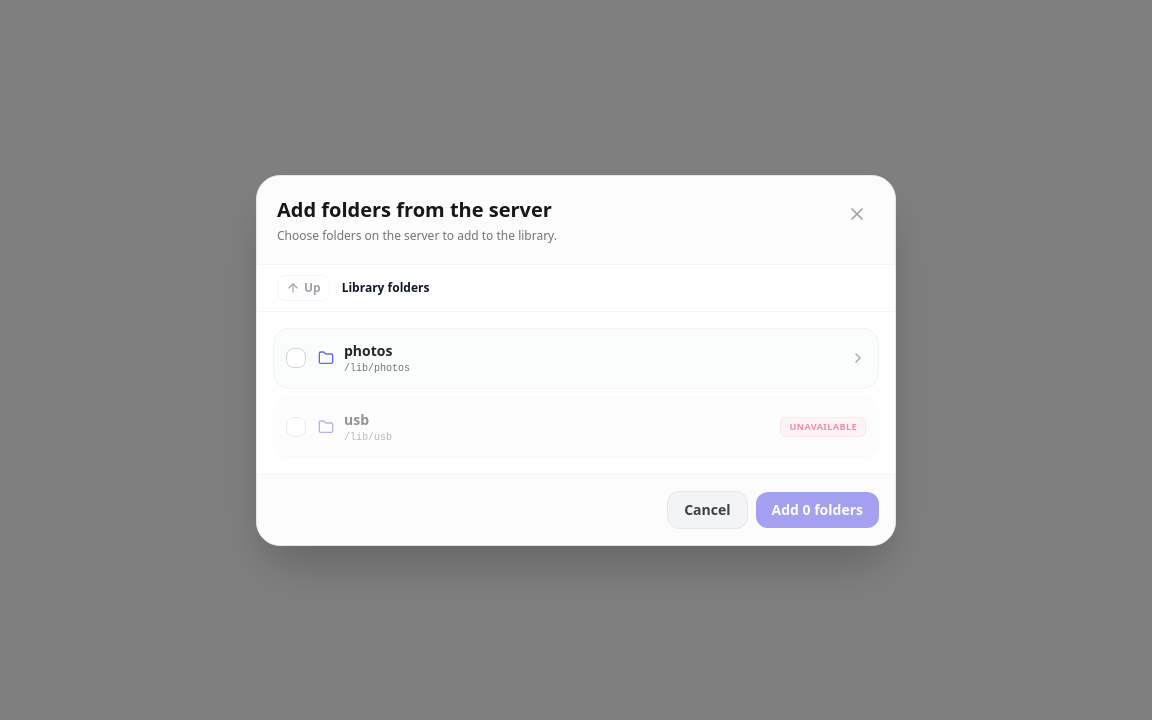
FolderPickerModal › notes a truncated listing and names that were skipped
Step 1. Click the button with aria-label "Open photos" → point(368, 350), box 318,340 -> 866,376
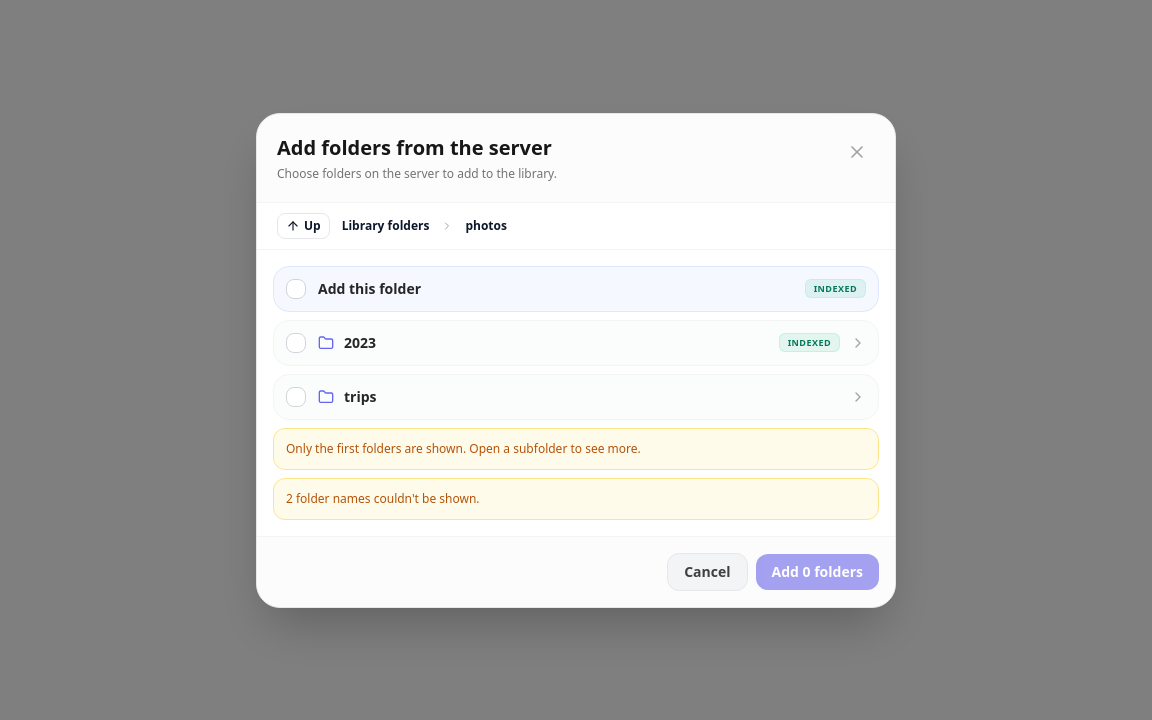
Now the text "Only the first folders are shown. Open a subfolder to see more." is shown, box 273,428 -> 879,470
Now the text "2 folder names couldn't be shown." is shown, box 273,478 -> 879,520
